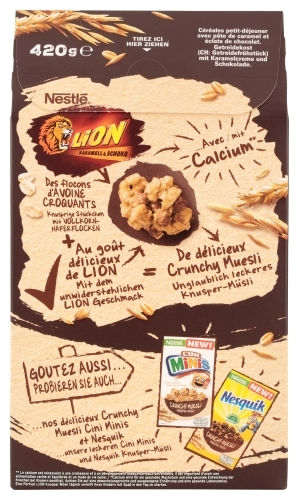cereals: (10, 7, 290, 491)
